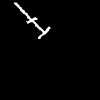double_crochet: (14, 3, 49, 38)
